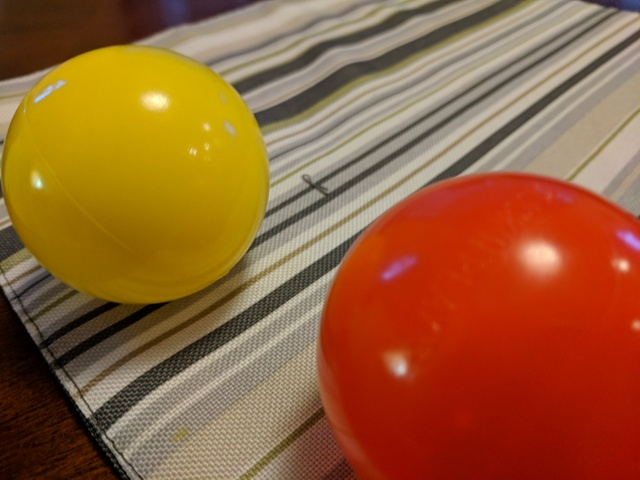ball: (315, 170, 639, 476)
